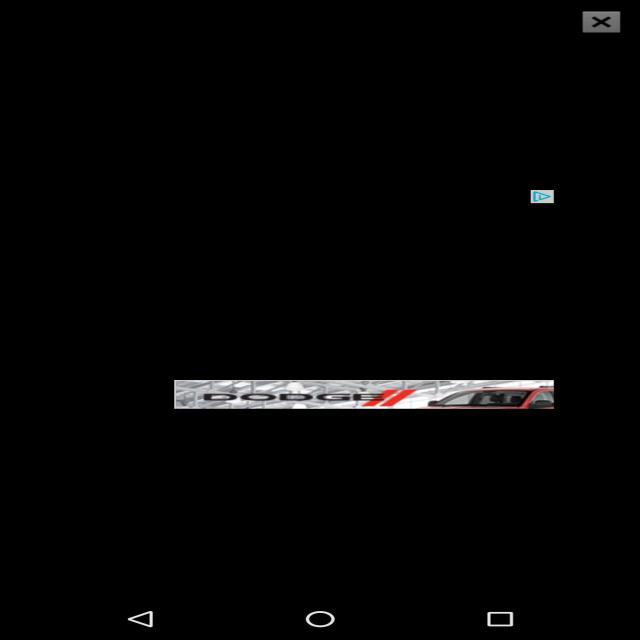image: (155, 375, 575, 416)
